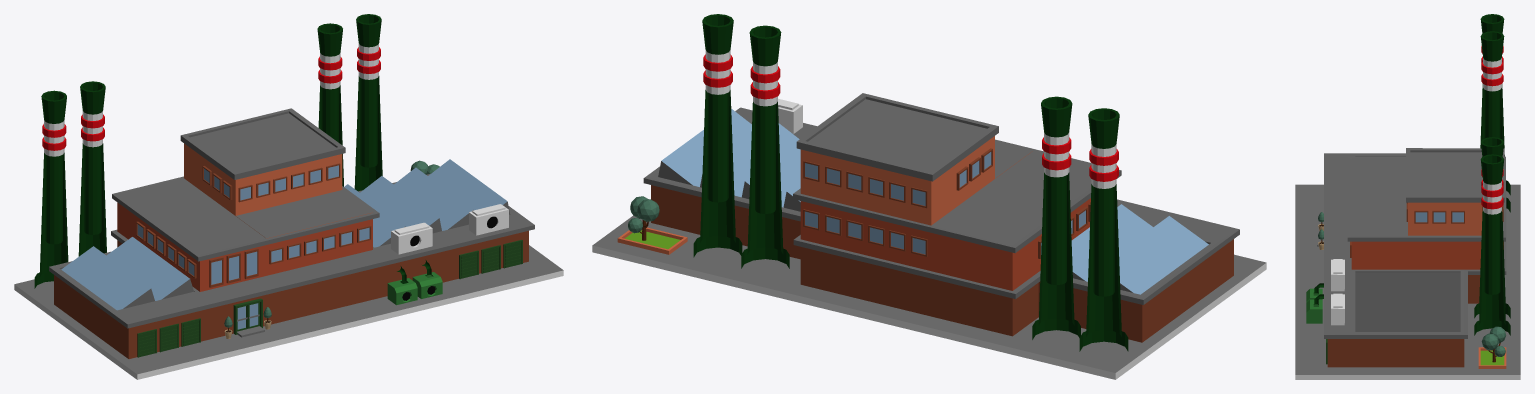
File: Factory Lvl 2.gltf
3 views of the same model, side by side, from view 1: azimuth 30°, elevation 25°; view 2: azimuth 150°, elevation 25°; view 3: azimuth 270°, elevation 25° (orthographic). The views are drawn at different scales.
Visible parts, largest first — view 1: fabrika.001, dimnjak.002, BAZA 2x2.003, prozor.003, ventilacija.001, ulazna vrata fabrike.001, vrata garaza.009, vrata garaza.005, vrata garaza.007, vrata garaza.008, vrata garaza.006, vrata garaza.010; view 2: fabrika.001, dimnjak.002, BAZA 2x2.003, prozor.003, travnjak.002, DRVO 3.001; view 3: fabrika.001, BAZA 2x2.003, dimnjak.002, prozor.003, ventilacija.001, DRVO 3.001, travnjak.002.
Part boxes in pixels (left/top/right/bottom): fabrika.001: left=49, top=108, right=534, bottom=358; dimnjak.002: left=34, top=14, right=382, bottom=288; BAZA 2x2.003: left=14, top=245, right=563, bottom=379; prozor.003: left=136, top=163, right=371, bottom=287; ventilacija.001: left=387, top=260, right=442, bottom=305; ulazna vrata fabrike.001: left=233, top=298, right=264, bottom=337; vrata garaza.009: left=459, top=250, right=478, bottom=279; vrata garaza.005: left=137, top=329, right=156, bottom=357; vrata garaza.007: left=481, top=245, right=500, bottom=273; vrata garaza.008: left=503, top=239, right=522, bottom=268; vrata garaza.006: left=181, top=318, right=200, bottom=346; vrata garaza.010: left=159, top=323, right=178, bottom=352; fabrika.001: left=643, top=93, right=1239, bottom=342; dimnjak.002: left=693, top=14, right=1128, bottom=351; BAZA 2x2.003: left=592, top=215, right=1266, bottom=379; prozor.003: left=803, top=148, right=1090, bottom=258; travnjak.002: left=617, top=227, right=687, bottom=254; DRVO 3.001: left=628, top=196, right=659, bottom=240; fabrika.001: left=1324, top=148, right=1506, bottom=367; BAZA 2x2.003: left=1295, top=184, right=1520, bottom=379; dimnjak.002: left=1474, top=14, right=1510, bottom=335; prozor.003: left=1350, top=202, right=1503, bottom=257; ventilacija.001: left=1306, top=283, right=1323, bottom=323; DRVO 3.001: left=1481, top=326, right=1506, bottom=362; travnjak.002: left=1478, top=347, right=1506, bottom=368.
Size of the model in its own units: 8 by 3.57 by 4.
